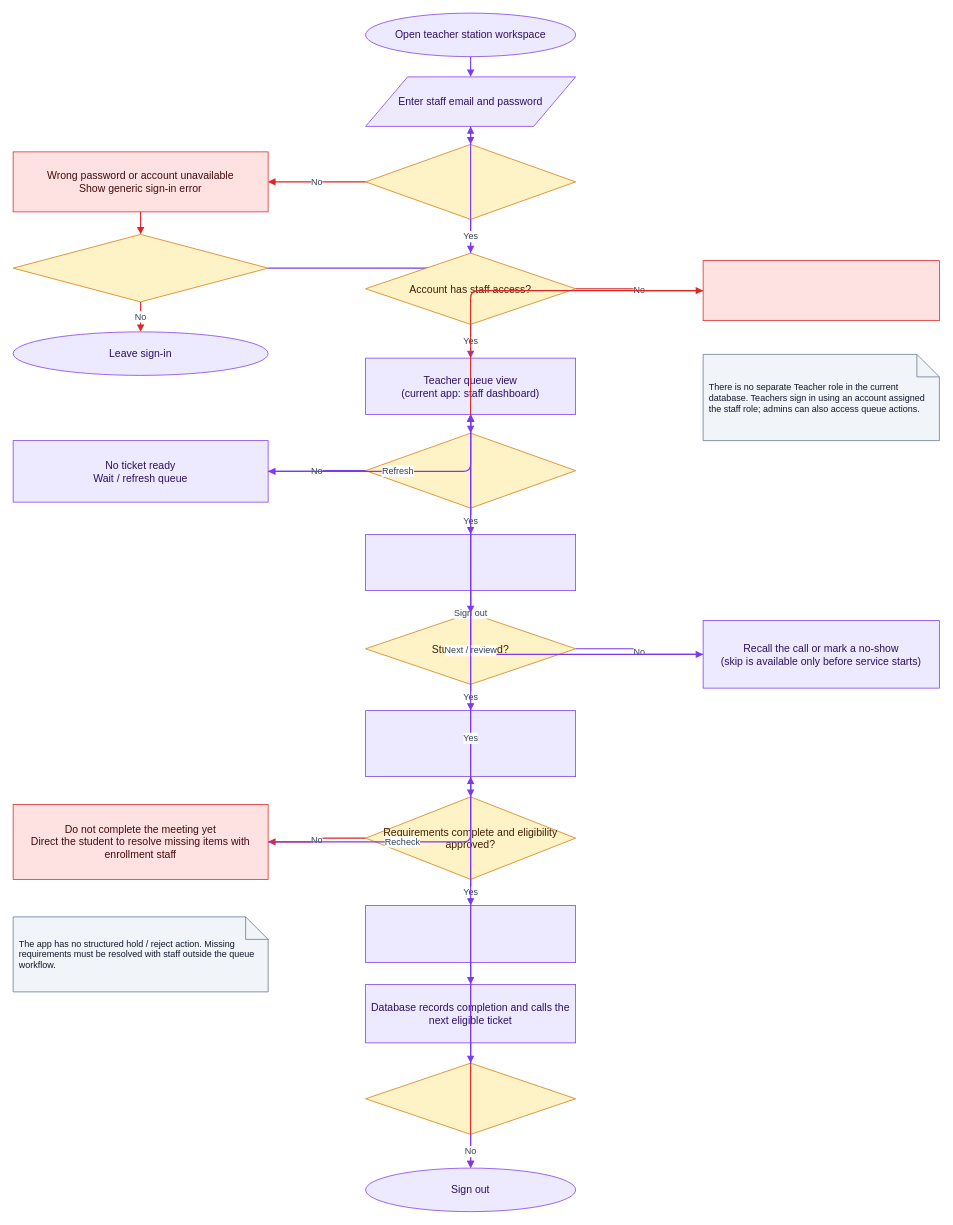
The diagram is 953 pixels wide and 1225 high, and some of its shapes have lost their labels. Each missing label, with the box of its shape:
Access denied Ask an administrator to assign a staff role: (702, 260, 939, 321)
Call earliest waiting ticket Database uses FIFO order: (365, 534, 576, 591)
Complete teacher meeting in queue dashboard: (365, 905, 576, 963)
Credentials valid?: (365, 144, 576, 219)
Handle another ticket?: (365, 1062, 576, 1134)
Prepared ticket waiting?: (365, 432, 576, 508)
Retry sign-in?: (12, 234, 268, 302)
Start teacher meeting Review grade, track, documents, and eligibility: (365, 710, 576, 777)
